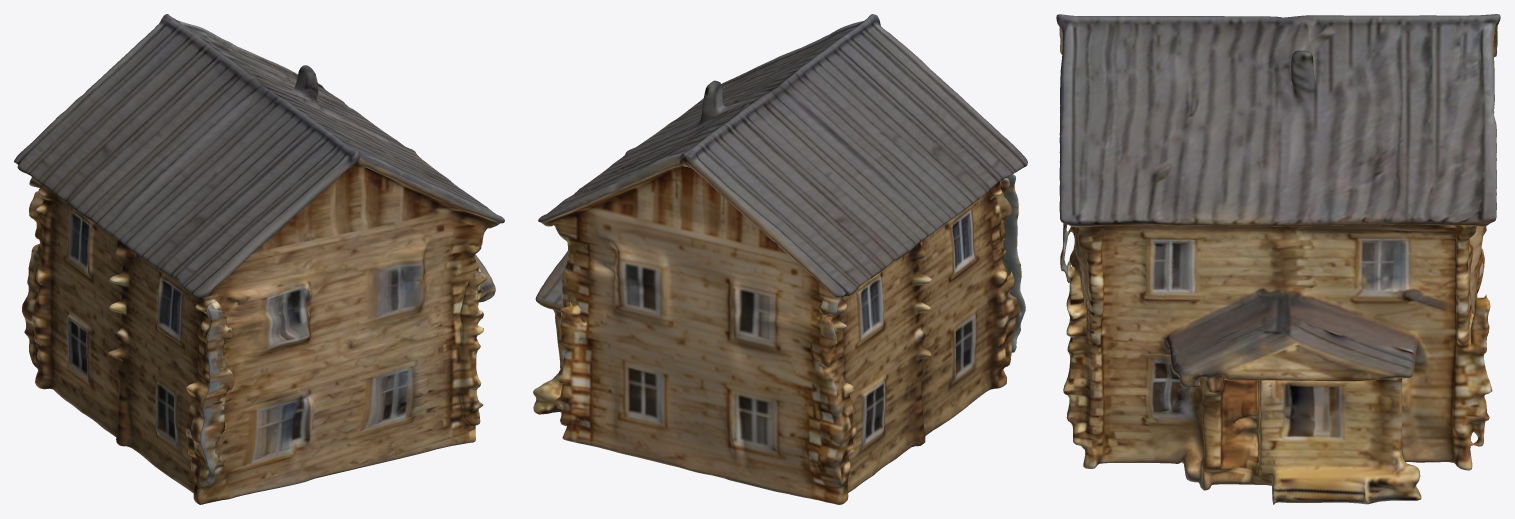
File: timber_house.glb
The picture shows the model from 3 angles, left to right: view 1: azimuth 30°, elevation 25°; view 2: azimuth 150°, elevation 25°; view 3: azimuth 270°, elevation 25°; orthographic projection. The views are drawn at different scales.
Parts seen in each view (by area): view 1: tripo_node_795dda98-5721-4880-a813-618b8d68d0b9; view 2: tripo_node_795dda98-5721-4880-a813-618b8d68d0b9; view 3: tripo_node_795dda98-5721-4880-a813-618b8d68d0b9.
Boxes of the visible parts, x1,y1,x2,y2 form: tripo_node_795dda98-5721-4880-a813-618b8d68d0b9: (14, 14, 504, 504); tripo_node_795dda98-5721-4880-a813-618b8d68d0b9: (533, 14, 1027, 504); tripo_node_795dda98-5721-4880-a813-618b8d68d0b9: (1056, 14, 1500, 504).
Bounding box in the file's own units: 0.6432 × 0.5777 × 0.6043.
Materials: 1 (1 with a texture image).
